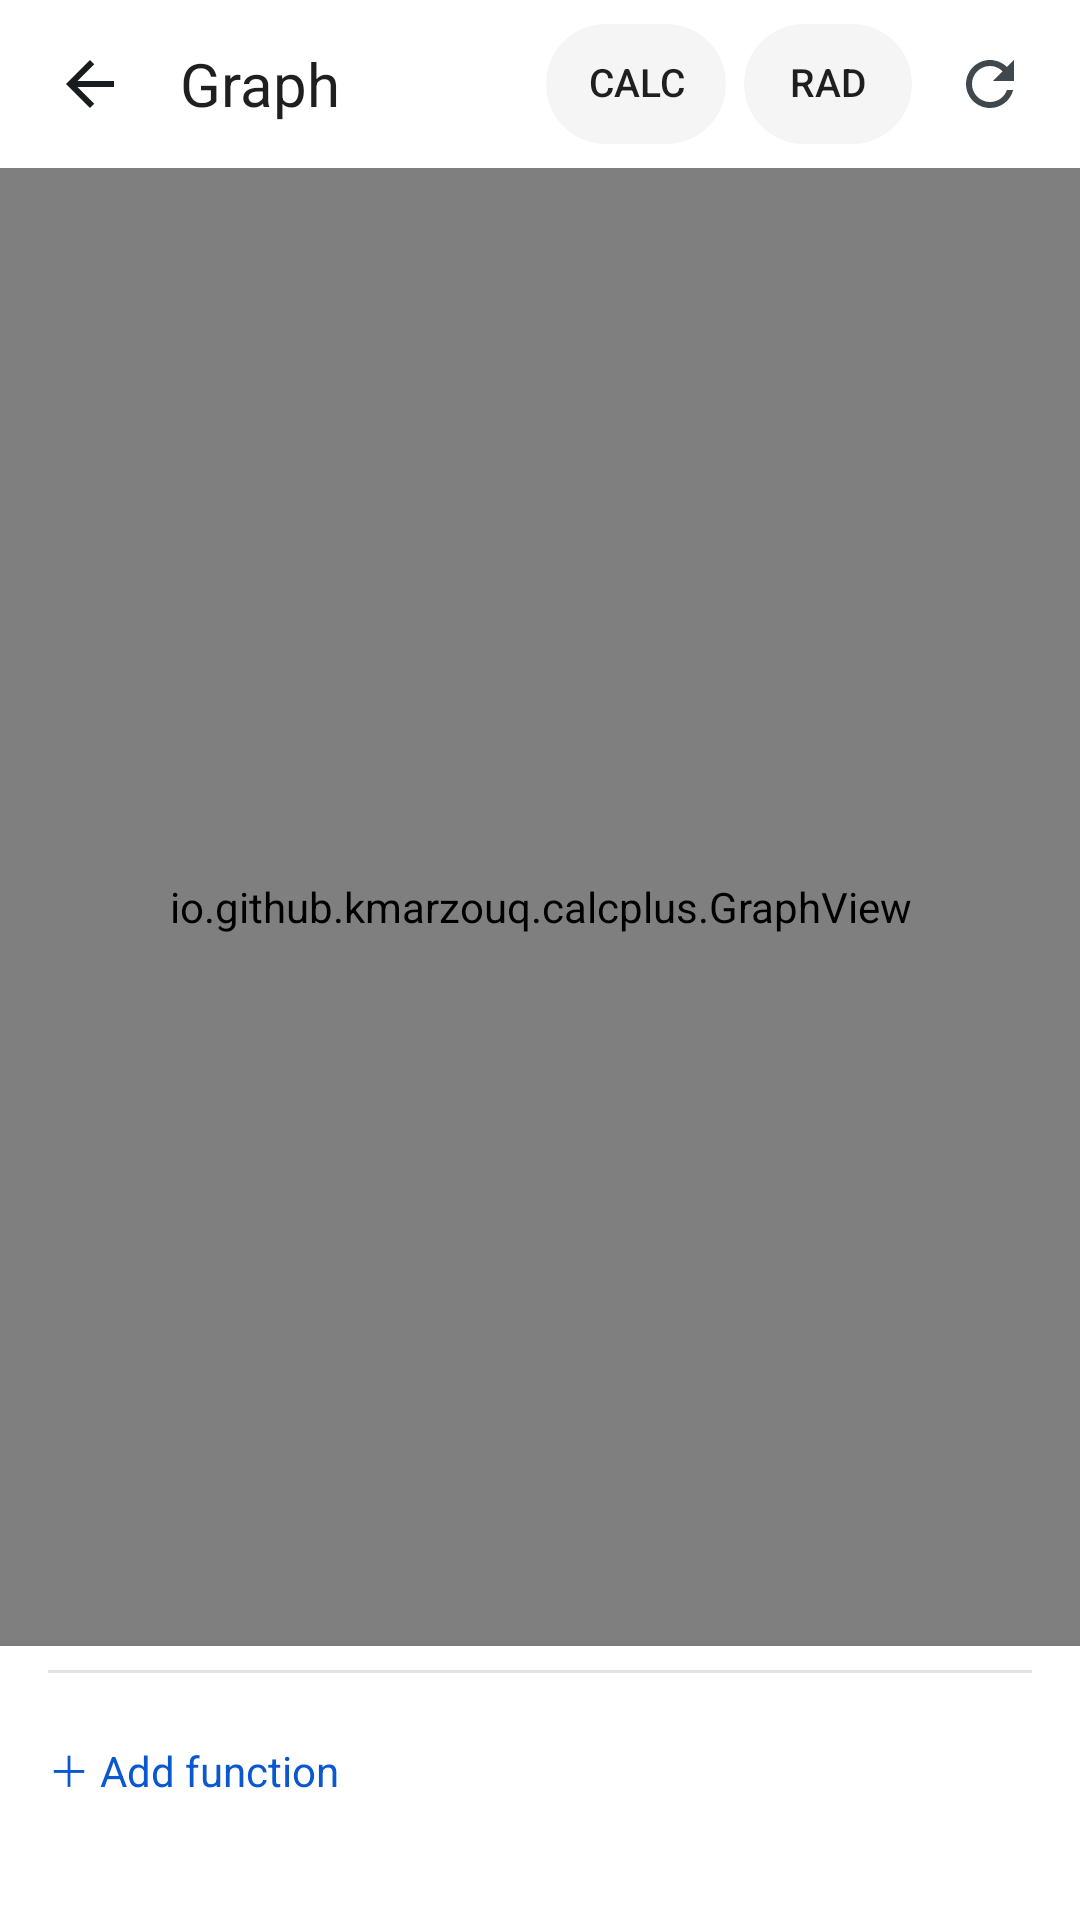

Icon click points for this 1080x1920 phone screenshot, format point (x, y):
Back: point (90, 84)
Reset view: point (990, 84)
